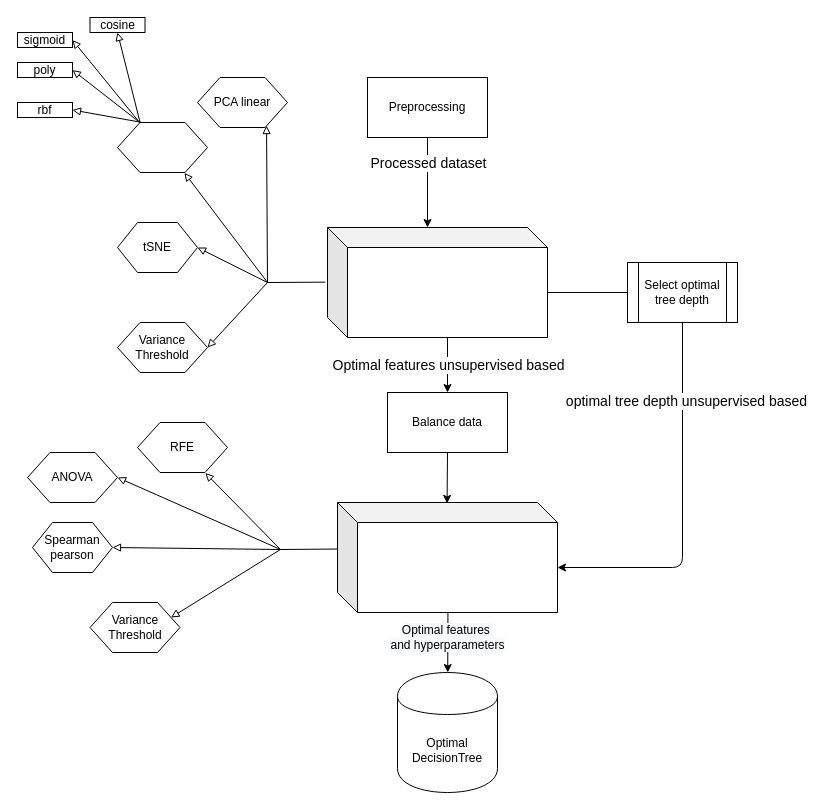
The diagram is 824 pixels wide and 810 high, and some of its shapes have lost their labels. The box of each missing label's shape, as (x1, y1, x2, y2) in pixels:
PCA kernel: (116, 122, 208, 172)
Select features with best precision@recall50 Supervised: (336, 502, 558, 612)
Select features with best precision@recall50 Unsupervised: (326, 226, 548, 338)
